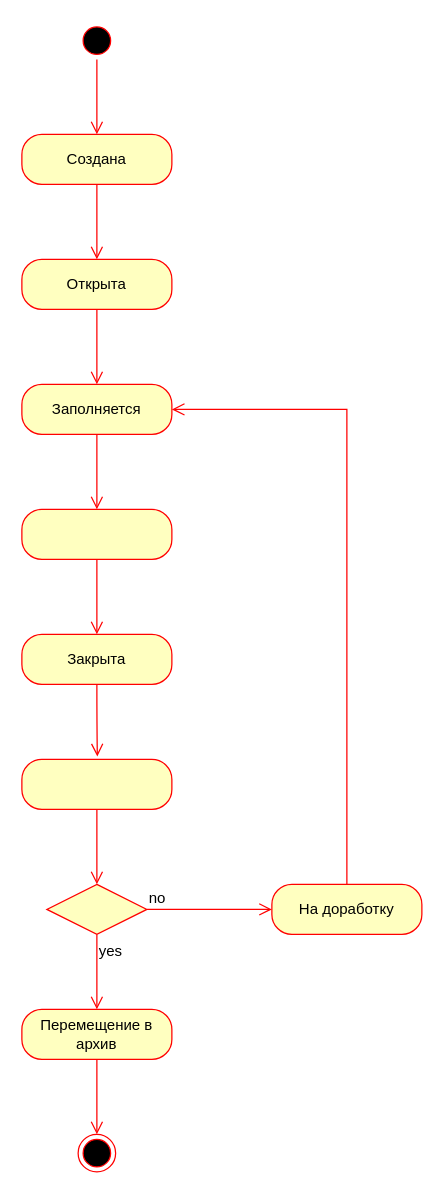
This 444x1194 diagram has some shape labels left out. The shapes that lost their labels are listed below. From the top down, each one's centre as x and y in pixels, then its label:
[96,533]: Добавление и изменение оценок
[96,783]: Сдана в деканат
[96,908]: Утверждена
